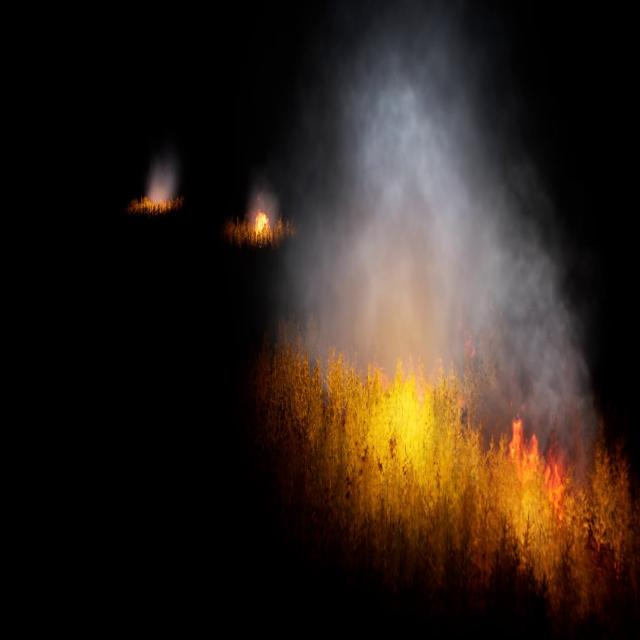fire: (268, 336, 634, 604), (254, 210, 270, 236)
smoke: (285, 0, 614, 469), (144, 160, 178, 204), (248, 188, 281, 230)
